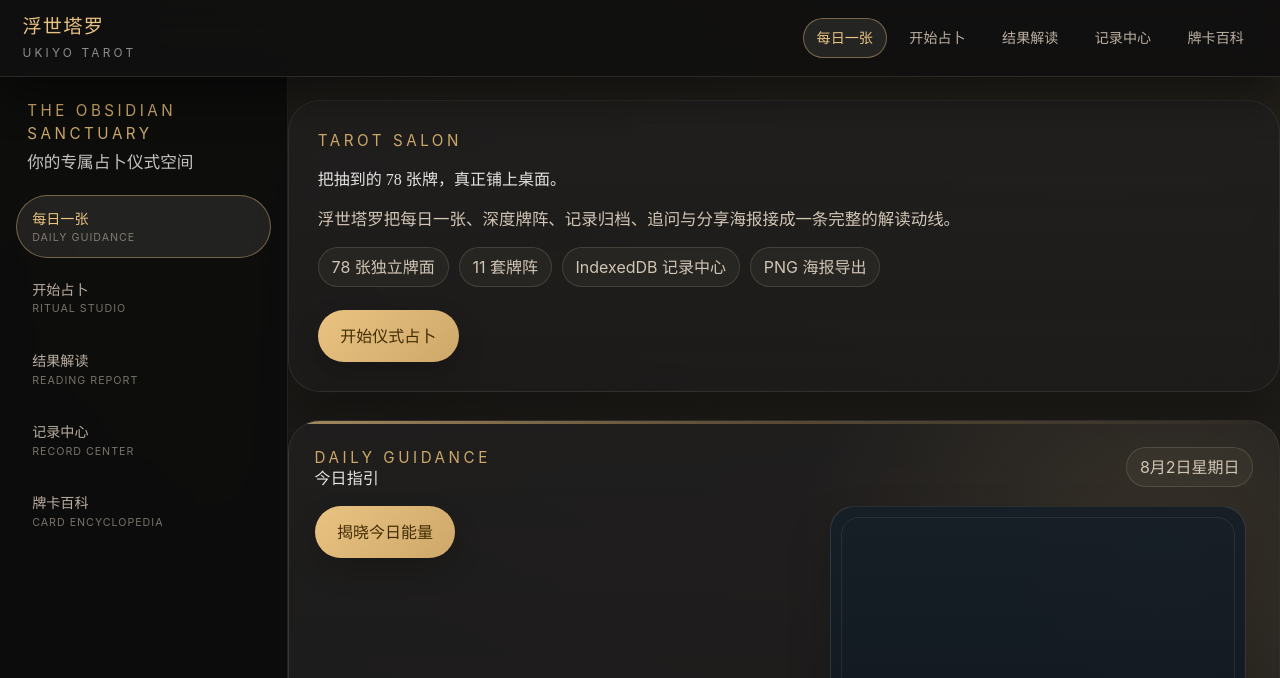
App tarot flow › reveals daily guidance and auto-archives it in the record center
Click the button "揭晓今日能量". click: x=385, y=532
box: [315, 506, 455, 558]
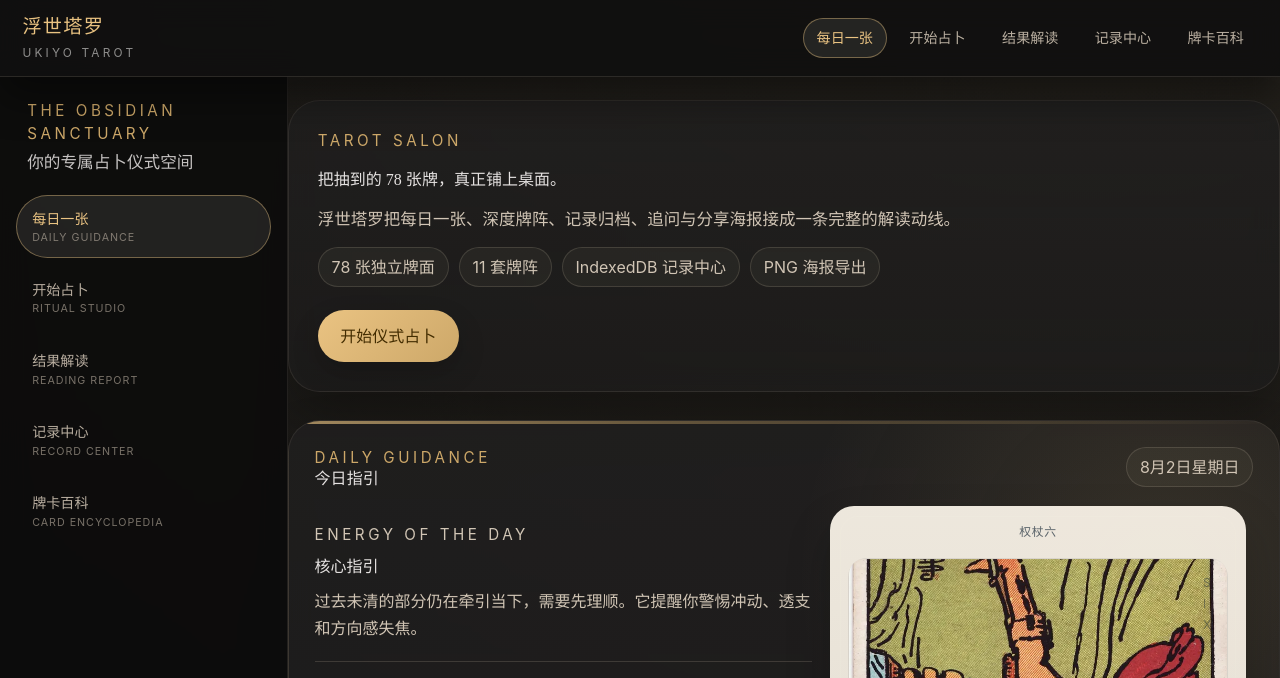
Expected: the 1st text "每日一张" is shown, [817, 27, 873, 48]
Result: the element "核心指引" is shown at [315, 506, 812, 662]
